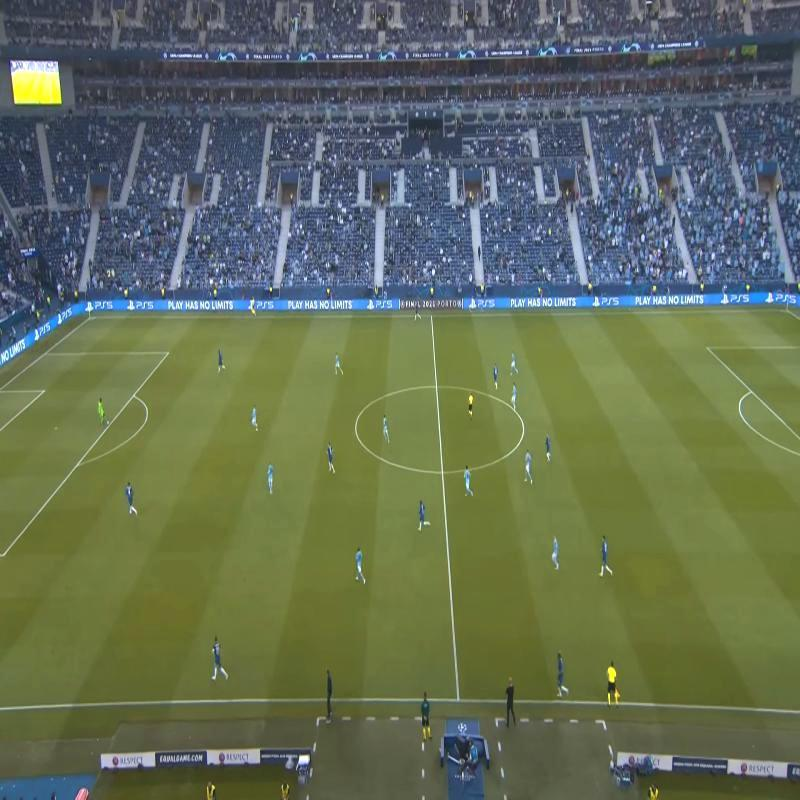1: (780, 305, 796, 320), (84, 311, 98, 325)
10: (744, 386, 760, 401), (126, 389, 142, 404)
11: (70, 458, 85, 473)
12: (0, 549, 7, 562)
13: (426, 308, 439, 321)
14: (430, 381, 443, 394)
15: (440, 468, 452, 480)
16: (452, 692, 466, 708)
2: (38, 347, 52, 360)
7: (36, 384, 52, 400)
9: (700, 340, 716, 355), (162, 348, 176, 362)
c: (348, 422, 362, 436), (516, 422, 529, 436)
